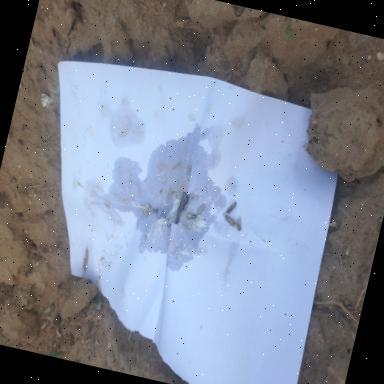pbw: (222, 213, 237, 227), (234, 214, 244, 231), (196, 202, 206, 216), (226, 200, 236, 214), (185, 213, 198, 220), (186, 164, 192, 176)
